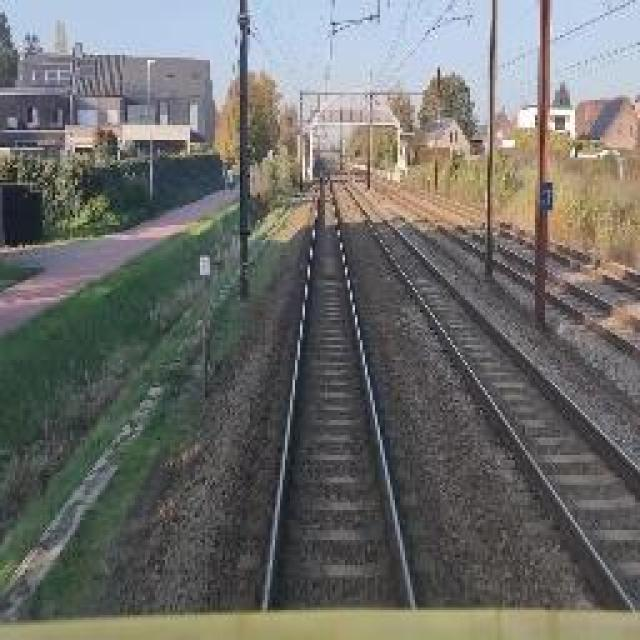rail: (320, 161, 640, 612), (216, 166, 445, 609), (336, 169, 640, 379)
